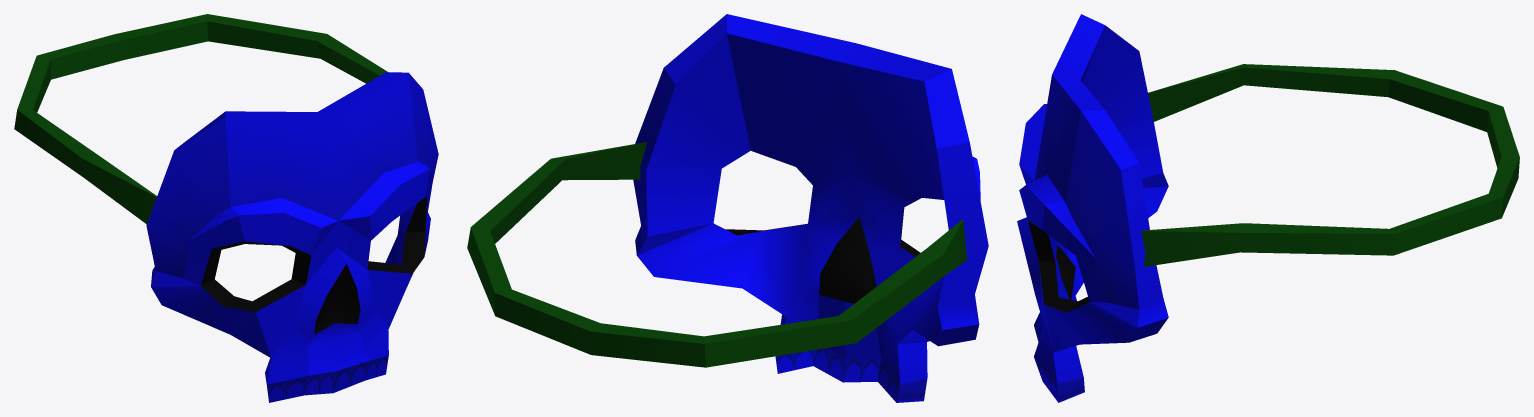
Rendered from SkullMask.fbx.
3 renders of one model, left to right at view 1: azimuth 30°, elevation 25°; view 2: azimuth 150°, elevation 25°; view 3: azimuth 270°, elevation 25°, orthographic. The views are drawn at different scales.
Parts seen in each view (by area): view 1: SkullMask, SkullMask_Strap; view 2: SkullMask, SkullMask_Strap; view 3: SkullMask, SkullMask_Strap.
Part boxes in pixels (<box>): SkullMask: <box>146,72,438,402</box>; SkullMask_Strap: <box>14,14,387,224</box>; SkullMask: <box>633,14,988,402</box>; SkullMask_Strap: <box>467,142,967,367</box>; SkullMask: <box>1017,14,1168,402</box>; SkullMask_Strap: <box>1141,64,1519,266</box>.
Bounding box in the file's own units: 23.03 × 19.71 × 28.99.
